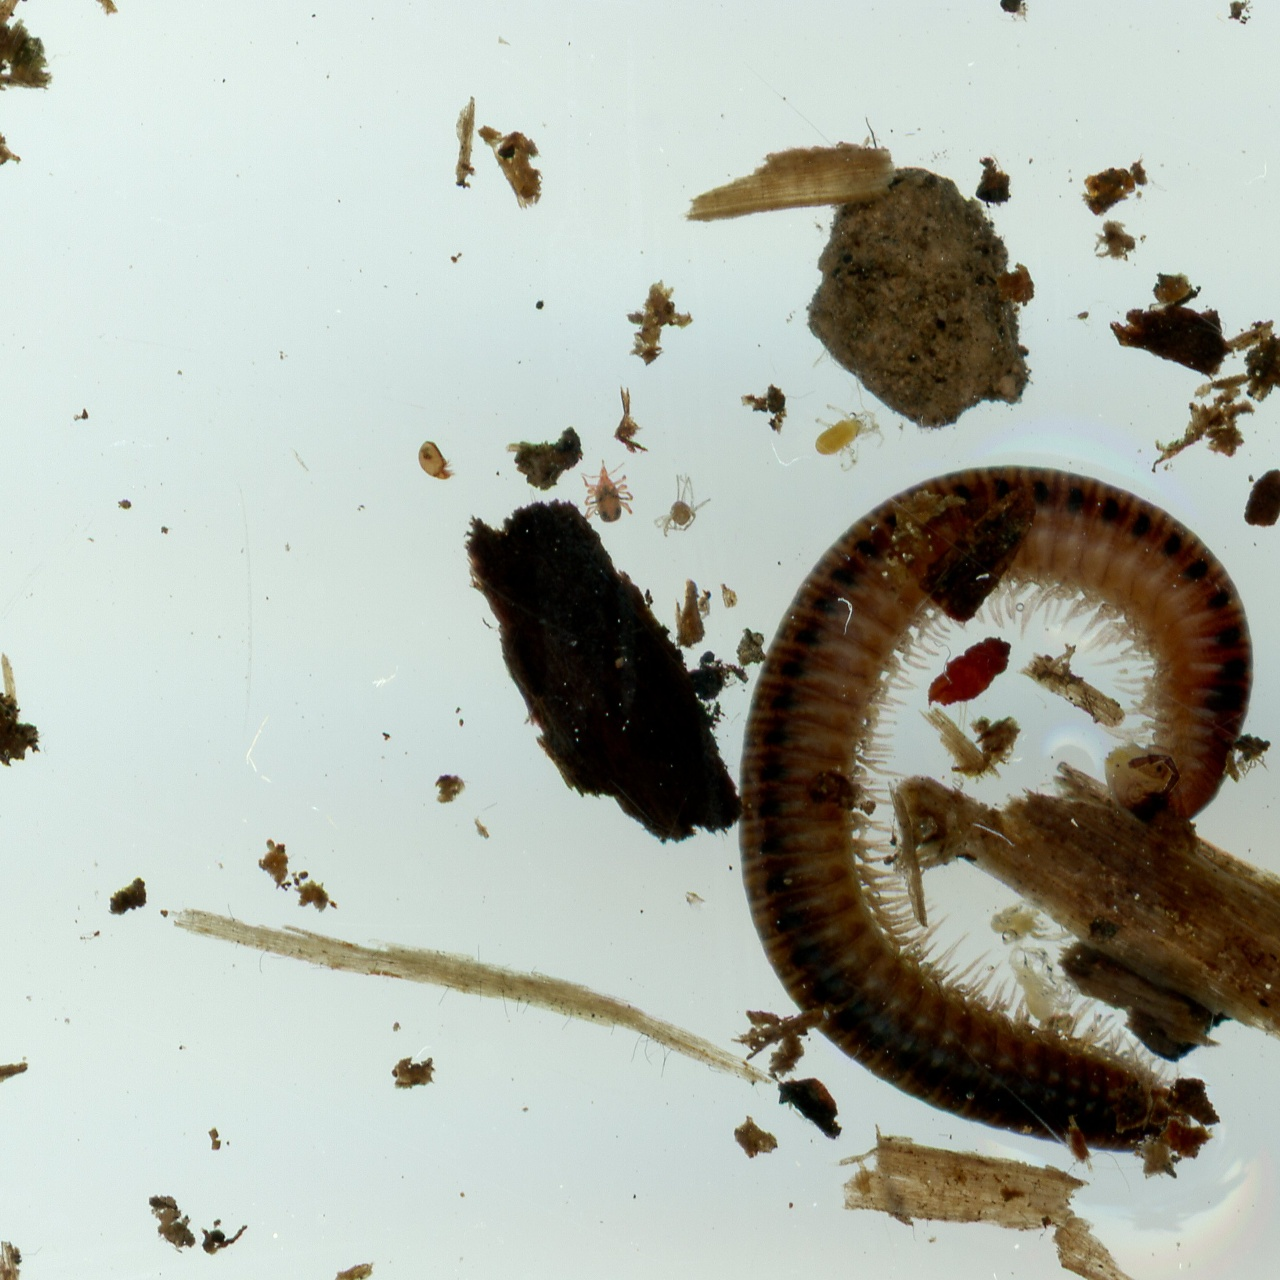arthropod: (728, 453, 1263, 1166), (796, 382, 896, 482), (1006, 941, 1083, 1024), (574, 452, 640, 530), (652, 470, 714, 538), (989, 900, 1073, 946), (1232, 732, 1273, 780)
